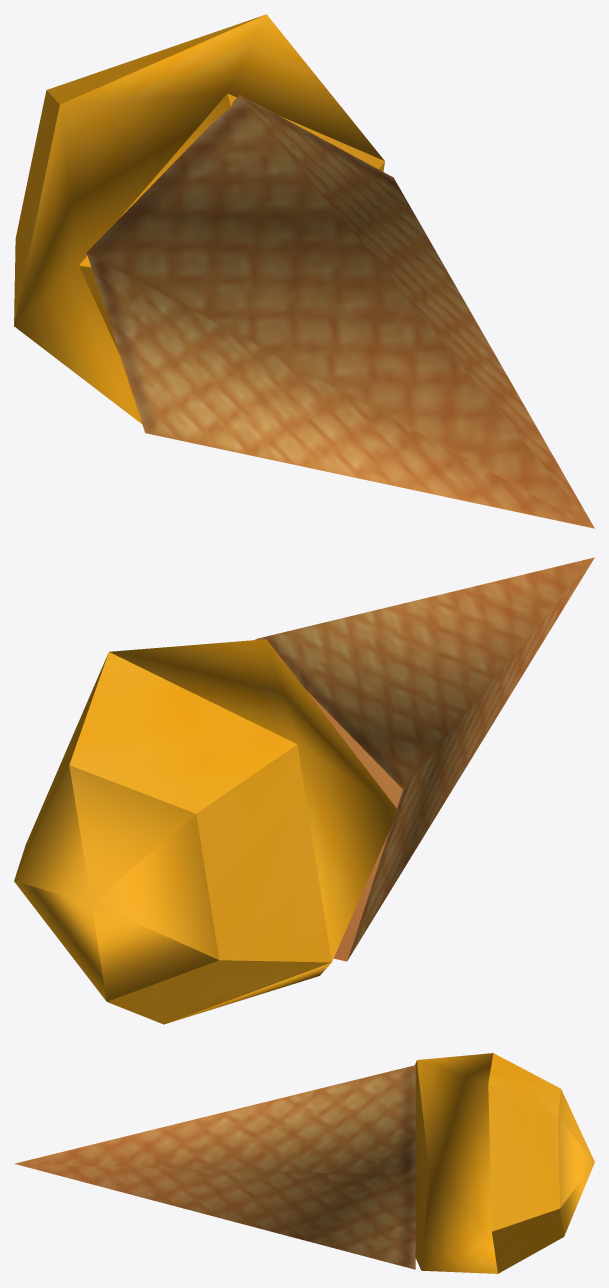
File: IceCream_Cone_5.fbx
The picture shows the model from 3 angles, top to bottom: view 1: azimuth 30°, elevation 25°; view 2: azimuth 150°, elevation 25°; view 3: azimuth 270°, elevation 25°; orthographic projection. The views are drawn at different scales.
Visible parts, largest first — view 1: IceCream_Cone_5; view 2: IceCream_Cone_5; view 3: IceCream_Cone_5.
Part boxes in pixels (x1=…): IceCream_Cone_5: x1=14, y1=14, x2=594, y2=528; IceCream_Cone_5: x1=14, y1=557, x2=594, y2=1024; IceCream_Cone_5: x1=14, y1=1053, x2=594, y2=1273.
Size of the model in its own units: 73.48 by 78.43 by 198.
